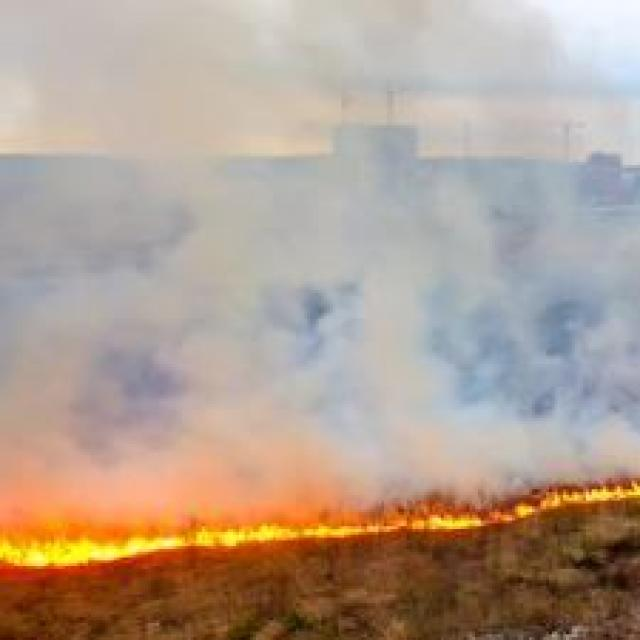Fire: (298, 470, 636, 556), (0, 518, 304, 574)
Smoke: (14, 0, 630, 504)
